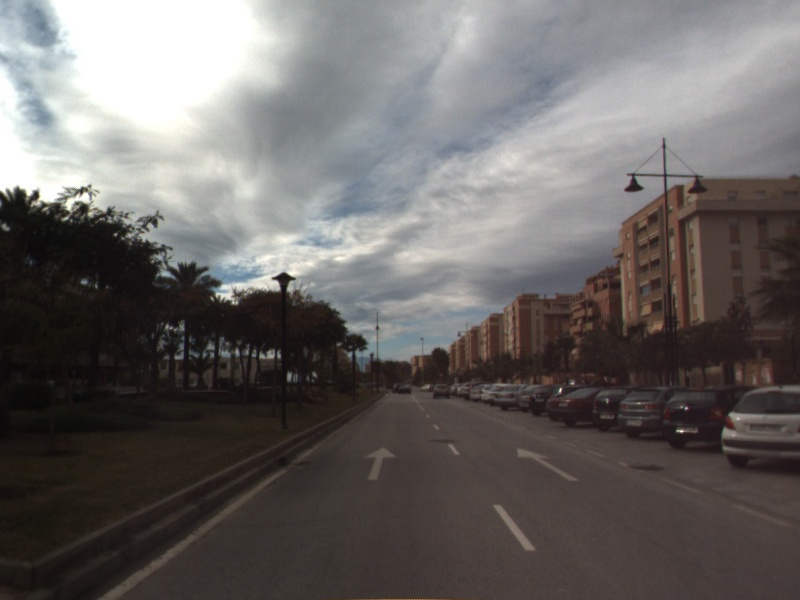STRAIGHT: (515, 446, 582, 483), (363, 445, 398, 481)
